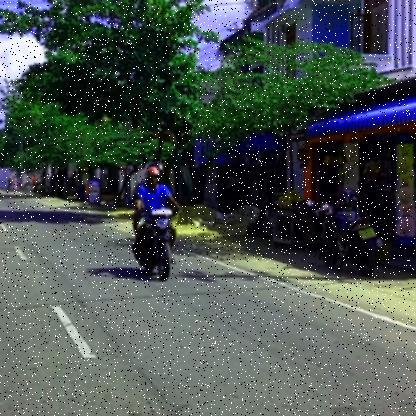motorcycle: (130, 207, 184, 282)
